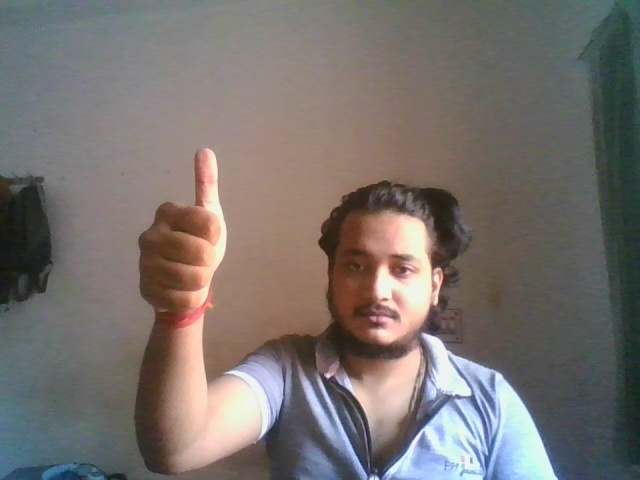ThumbsUp: (136, 147, 229, 306)
